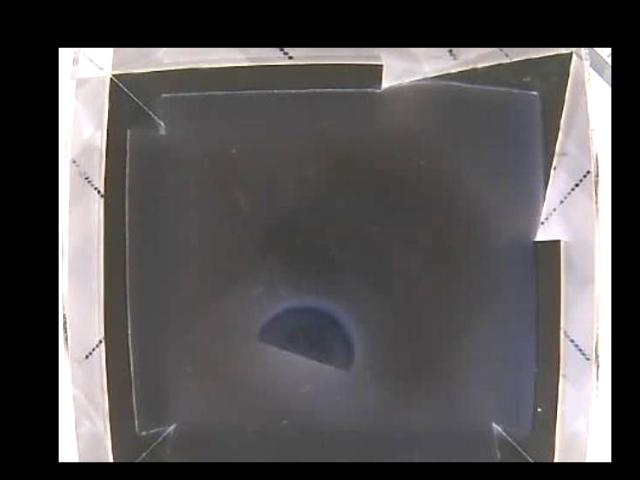Mooli: (254, 304, 356, 370)
